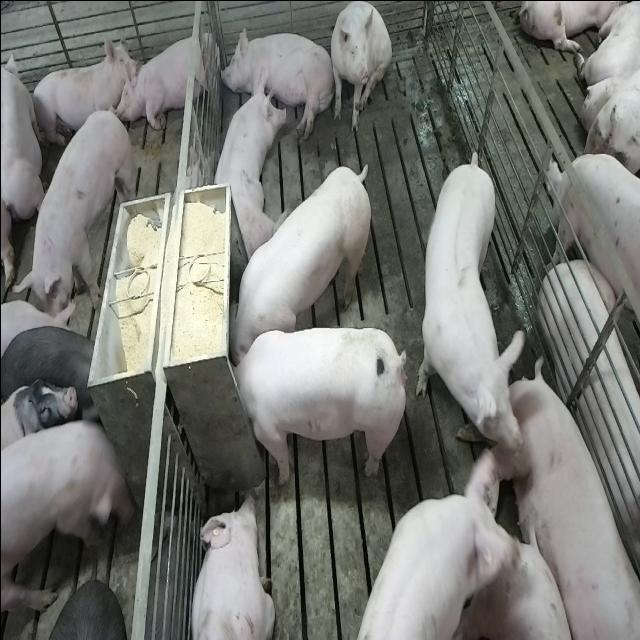Feeding: (228, 161, 376, 361), (222, 325, 400, 484)
Lateral_lying: (480, 356, 637, 636), (218, 23, 334, 139)
Sitting: (328, 1, 391, 134)
Standing: (418, 147, 528, 451), (355, 446, 520, 640), (1, 402, 130, 630), (17, 102, 132, 320), (546, 156, 640, 348)
Sternal_lying: (207, 72, 285, 260), (186, 490, 274, 640), (30, 29, 136, 144), (123, 27, 216, 133)
